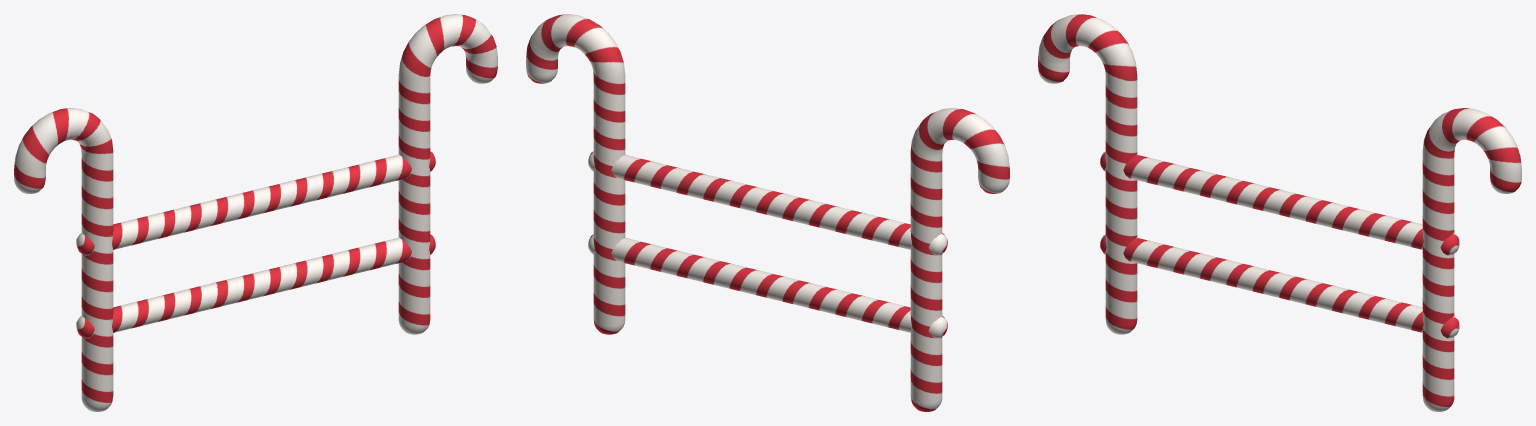
File: candy_cane_fence.glb
The picture shows the model from 3 angles, left to right: view 1: azimuth 30°, elevation 25°; view 2: azimuth 150°, elevation 25°; view 3: azimuth 330°, elevation 25°; orthographic projection.
Parts seen in each view (by area): view 1: candy_cane_fence; view 2: candy_cane_fence; view 3: candy_cane_fence.
Part boxes in pixels (bbox=[...]): candy_cane_fence: bbox=[14, 14, 497, 411]; candy_cane_fence: bbox=[526, 14, 1009, 411]; candy_cane_fence: bbox=[1038, 14, 1521, 411].
Size of the model in its own units: 2.42 by 1.49 by 0.14.
1 material, 1 textured.
